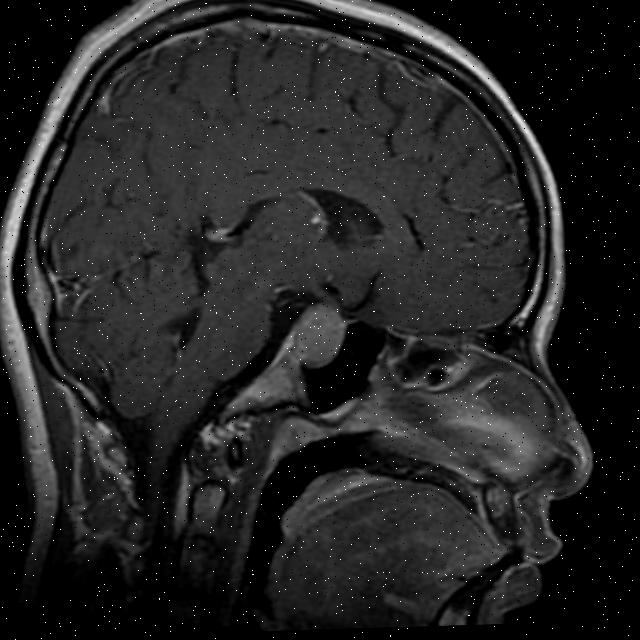Pituitary: (285, 294, 354, 374)
